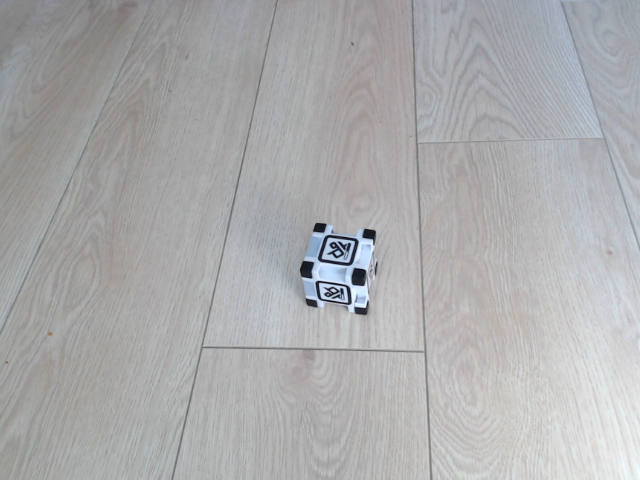block: (298, 220, 383, 322)
